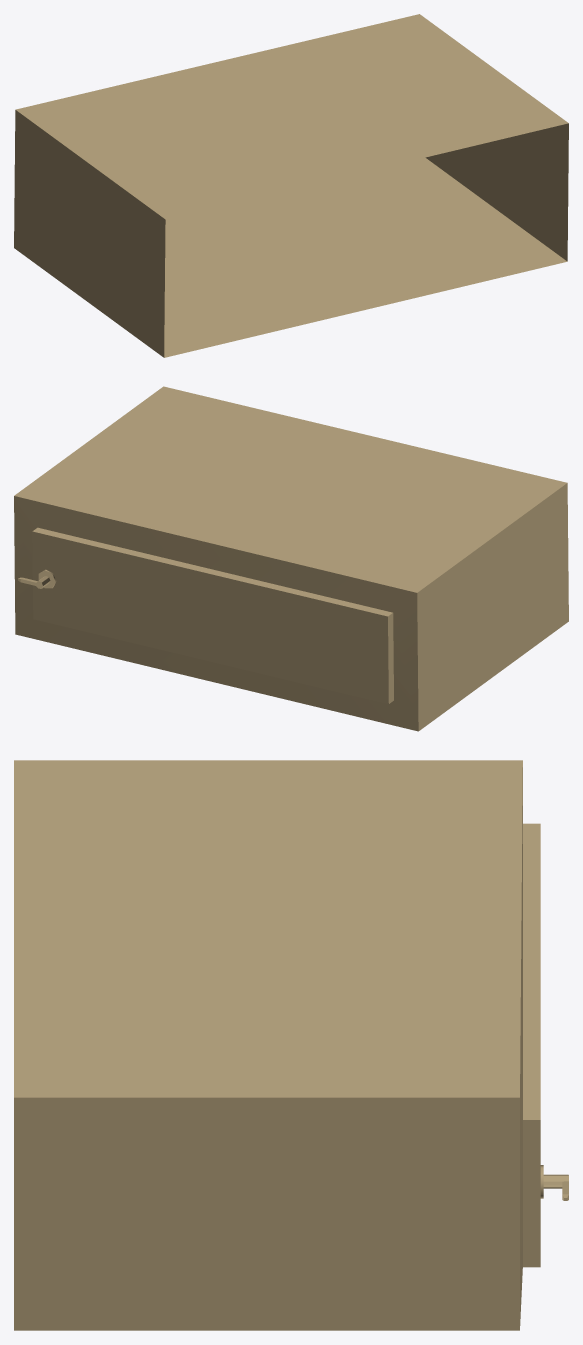
The model's file is armario lateral.fbx.
The picture shows the model from 3 angles, top to bottom: view 1: azimuth 30°, elevation 25°; view 2: azimuth 150°, elevation 25°; view 3: azimuth 270°, elevation 25°; orthographic projection. The views are drawn at different scales.
Visible parts, largest first — view 1: Box035; view 2: Box035; view 3: Box035.
Boxes of the visible parts, left/top/right/bottom form: Box035: left=14, top=14, right=568, bottom=357; Box035: left=14, top=386, right=568, bottom=731; Box035: left=14, top=760, right=568, bottom=1330.
Size of the model in its own units: 9301 by 3079 by 6517.
